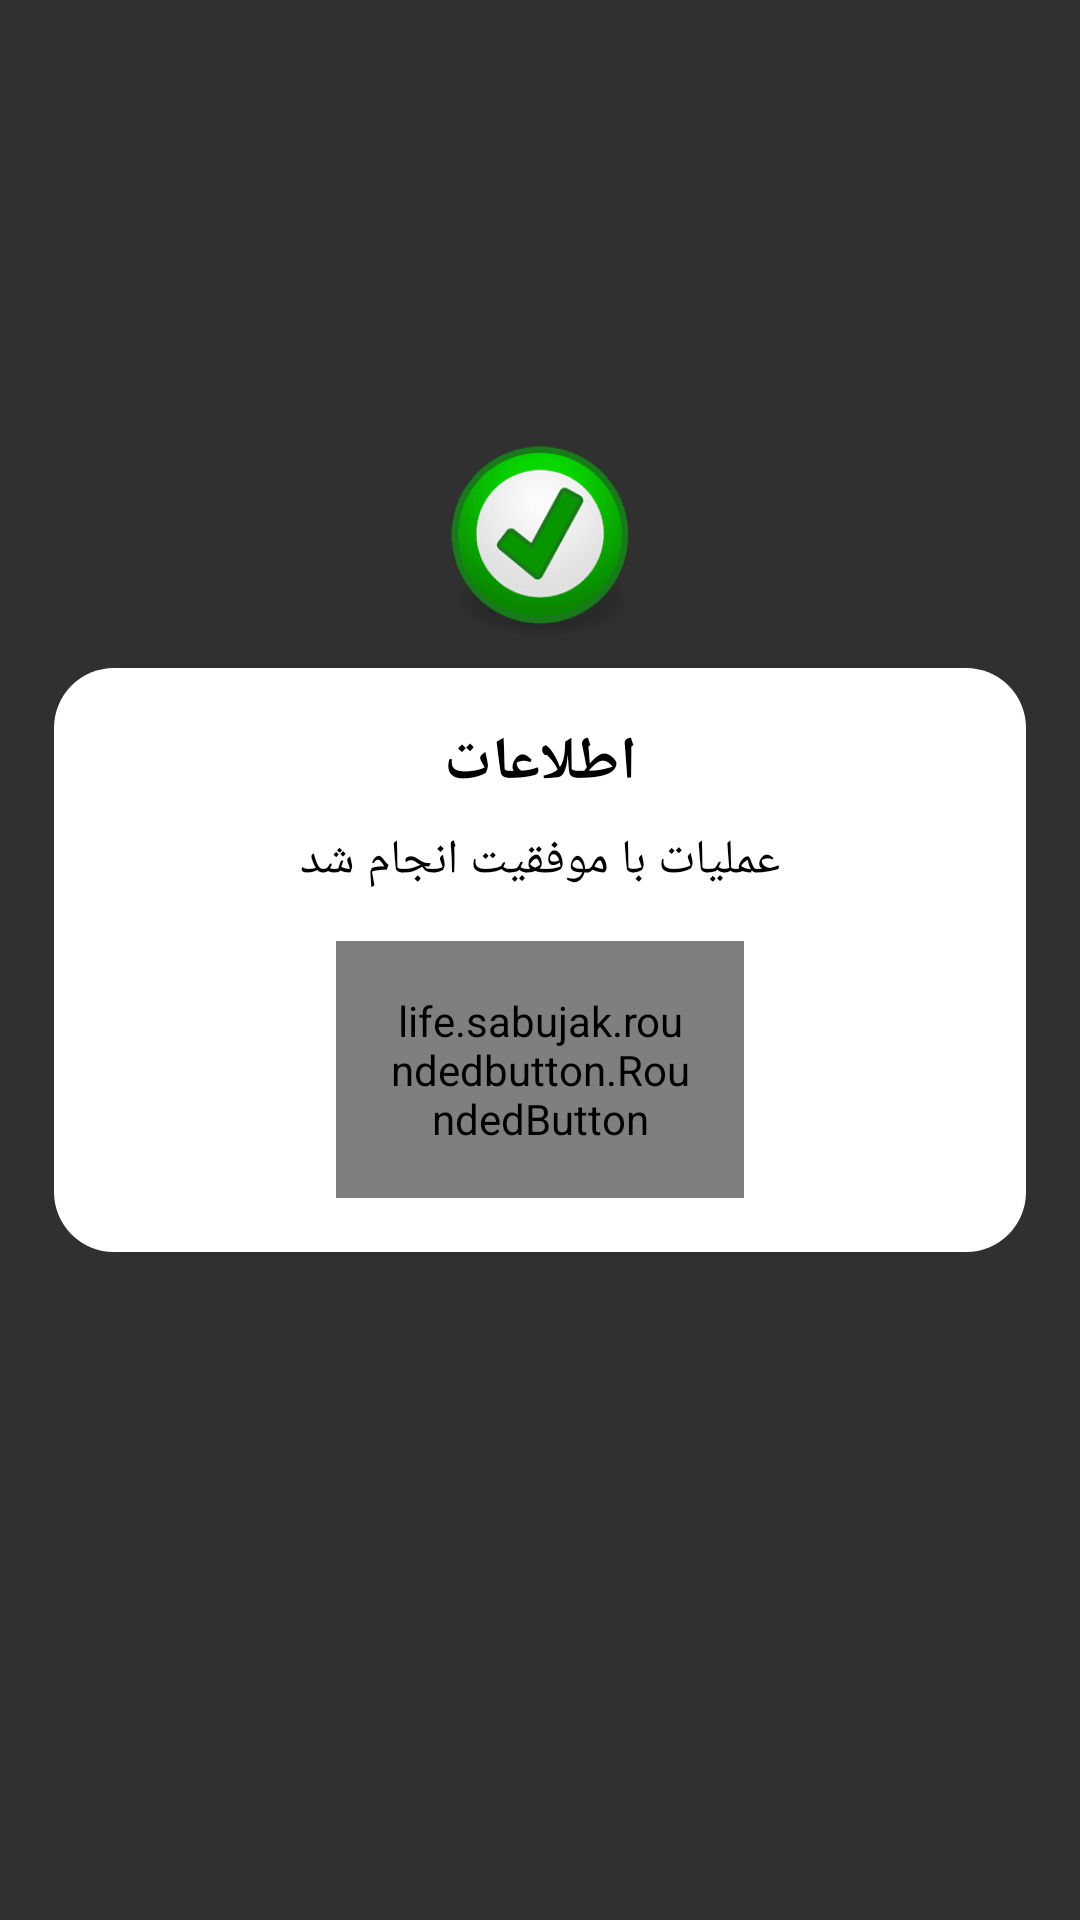

Locate icon controls on the screen. Image size 1080 × 1920, boxes as Rect(x1, y1, x2, y2).
success: Rect(451, 446, 629, 624)
